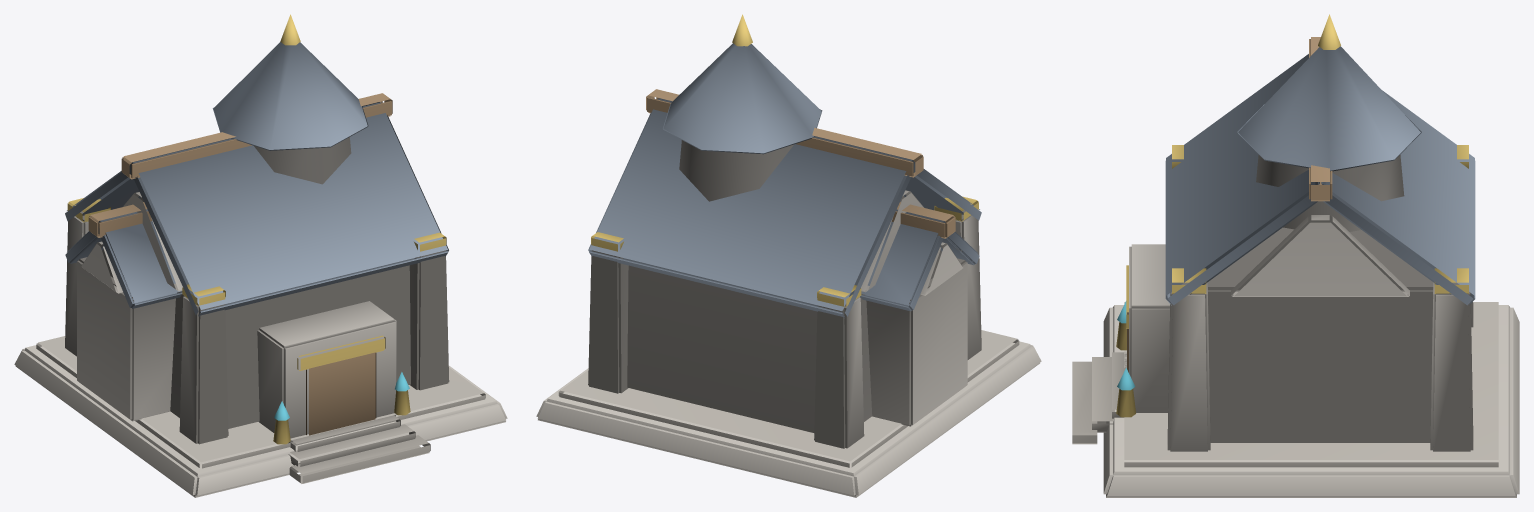
Rendered from core_archive_townhall_lv2_lod1.glb.
3 renders of one model, left to right at view 1: azimuth 30°, elevation 25°; view 2: azimuth 150°, elevation 25°; view 3: azimuth 270°, elevation 25°, orthographic. The views are drawn at different scales.
Parts seen in each view (by area): view 1: core_archive_townhall_lv2.001; view 2: core_archive_townhall_lv2.001; view 3: core_archive_townhall_lv2.001.
Boxes of the visible parts, x1,y1,x2,y2 form: core_archive_townhall_lv2.001: (14, 14, 507, 497); core_archive_townhall_lv2.001: (536, 14, 1041, 497); core_archive_townhall_lv2.001: (1072, 14, 1519, 497).
Size of the model in its own units: 4.71 by 5.13 by 4.99.
